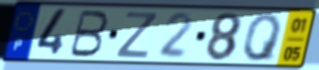2: (156, 11, 195, 61)
4: (35, 7, 69, 60)
8: (204, 10, 245, 63)
B: (66, 9, 111, 59)
Q: (242, 12, 285, 63)
Z: (113, 10, 161, 60)
